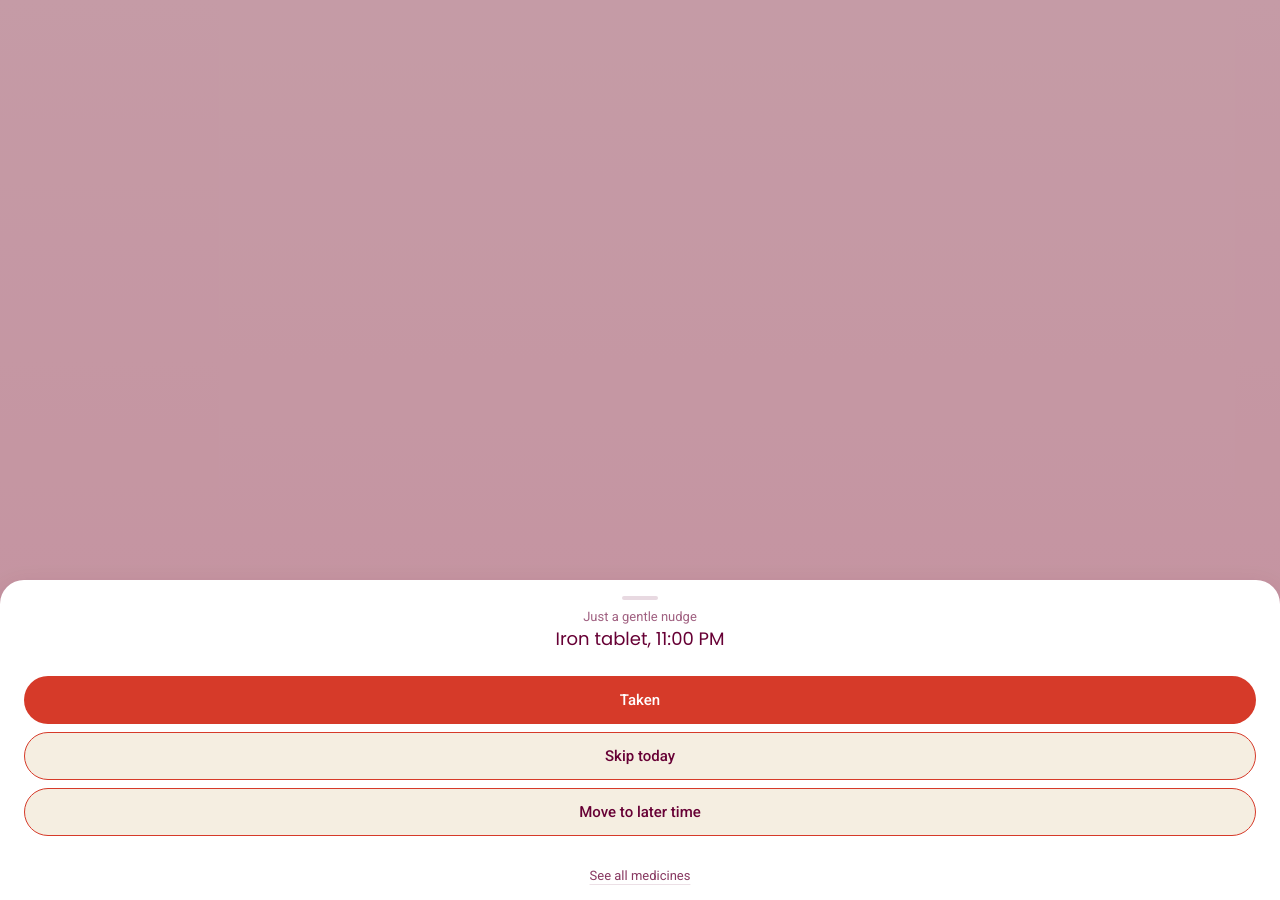
Test: MedicineQuickActionSheet › moves 11 PM to midnight locally without logging a dose
Step 1. Click the button "Move to later time" → x=640, y=812, box [24,788,1256,836]
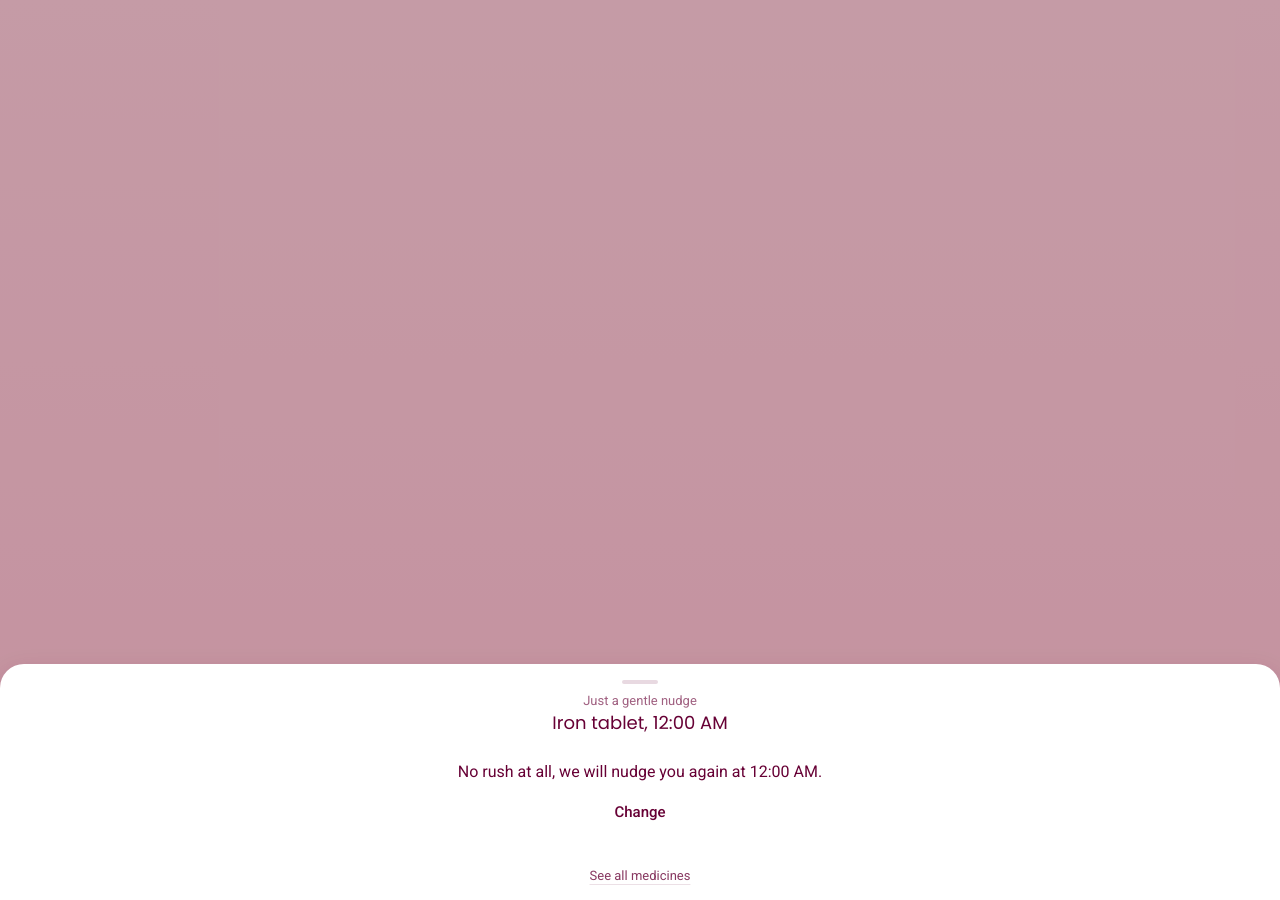
Expected: the heading "Iron tablet, 12:00 AM" is shown, [552,710,728,735]
Expected: the text "No rush at all, we will nudge you again at 12:00 AM." is shown, [458,762,822,781]
